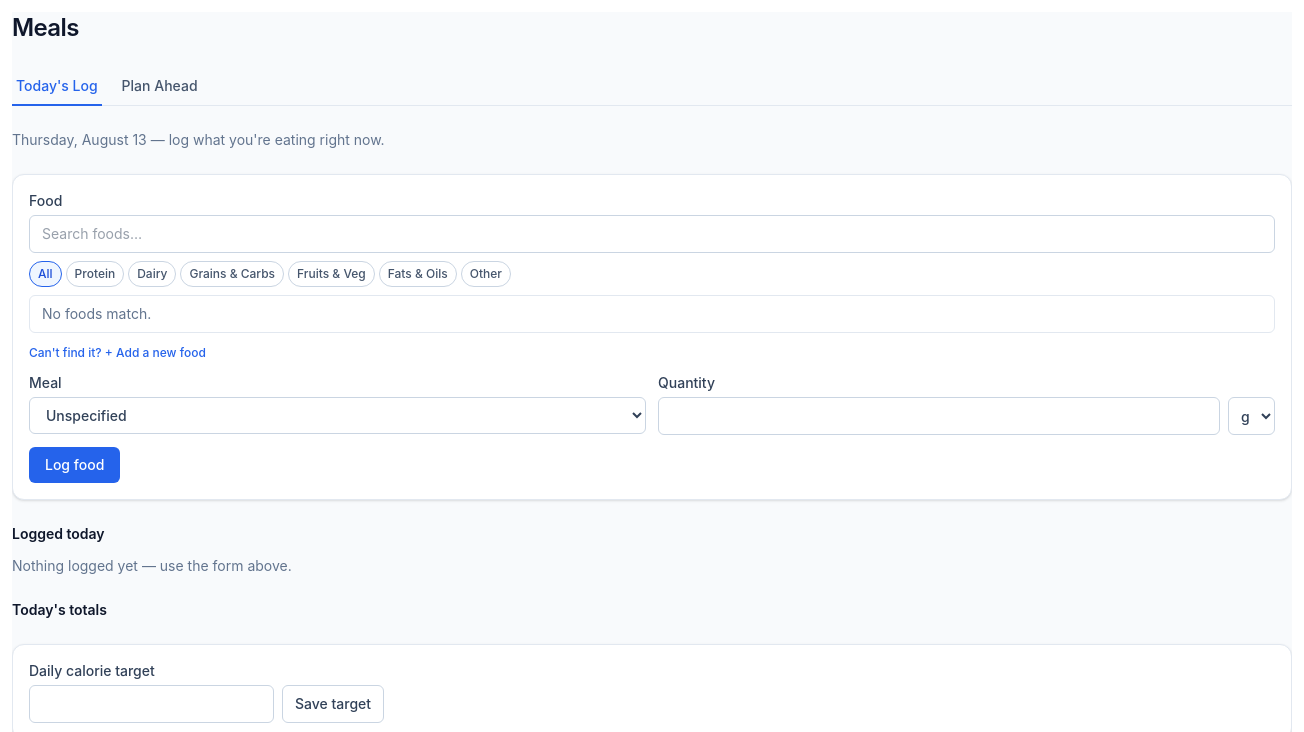
Test: MealPlannerView › creates a meal plan and selects it
The width and height of the screenshot is (1304, 732).
Click the button "Plan Ahead": point(160, 87) [118,68,202,106]
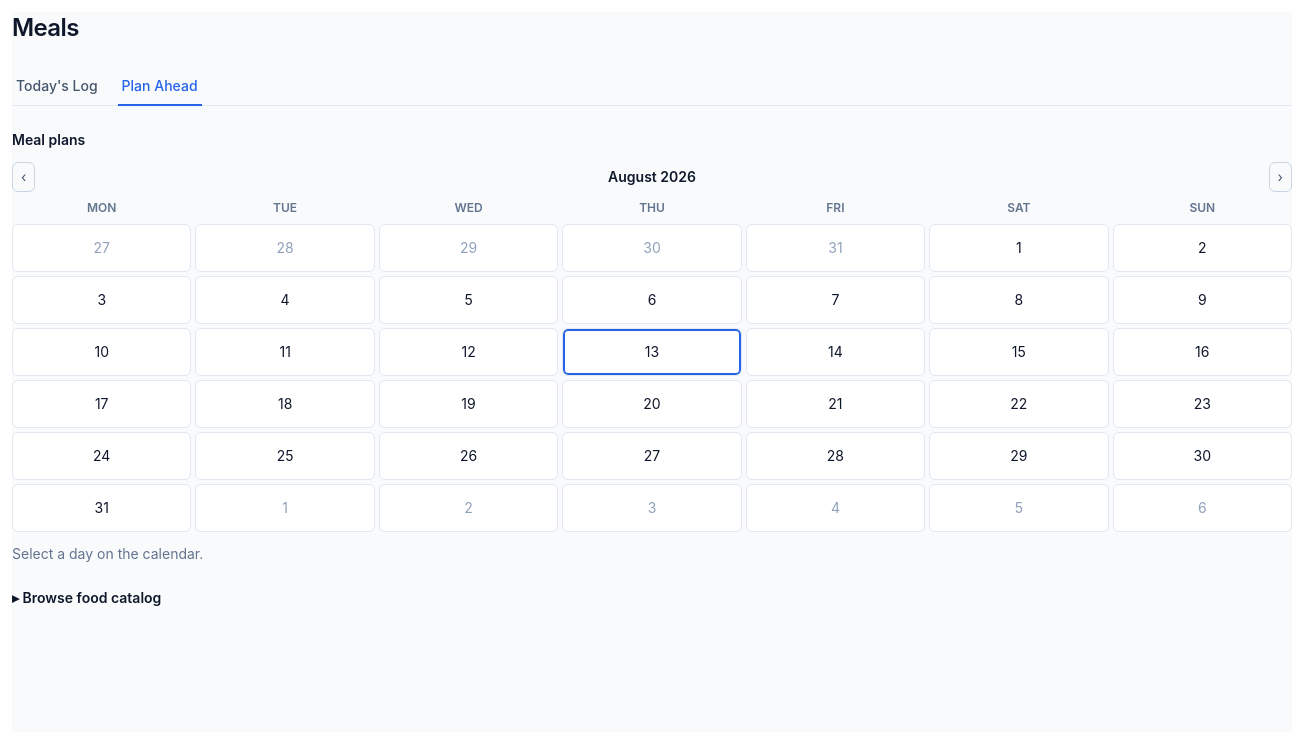
Click the 1st button "1": point(1019, 248) [929,224,1108,272]
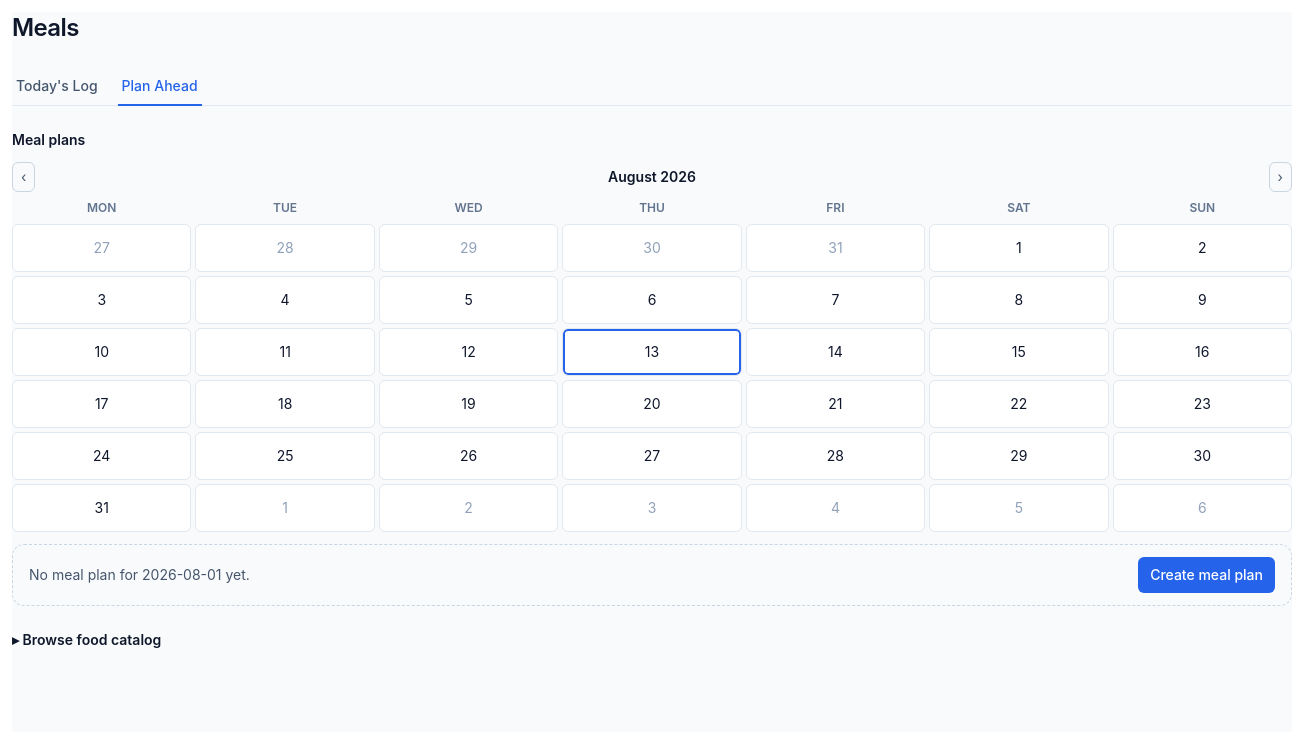
Click the button "Create meal plan": point(1207, 575) [1138,557,1275,593]
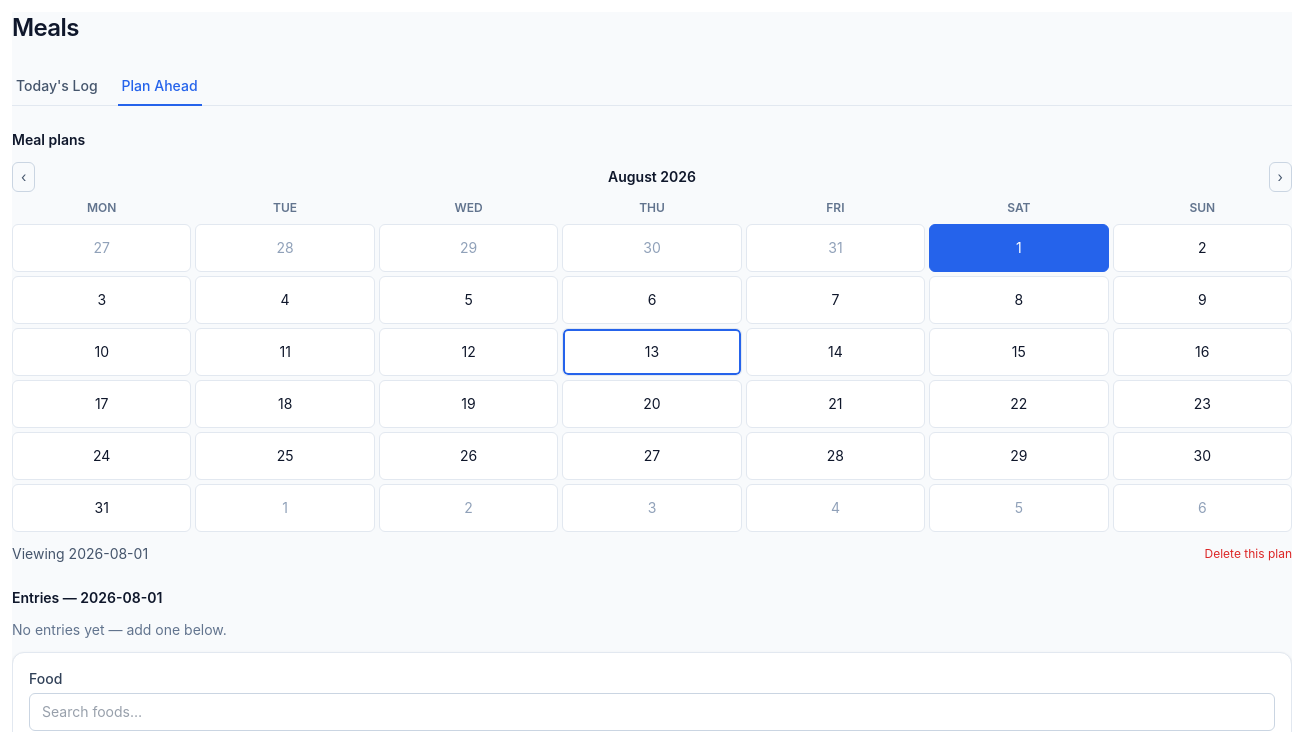
Check: the text "2026-08-01" is shown, box [12,545,148,562]
Check: the text "No entries yet" is shown, box [12,621,227,638]
